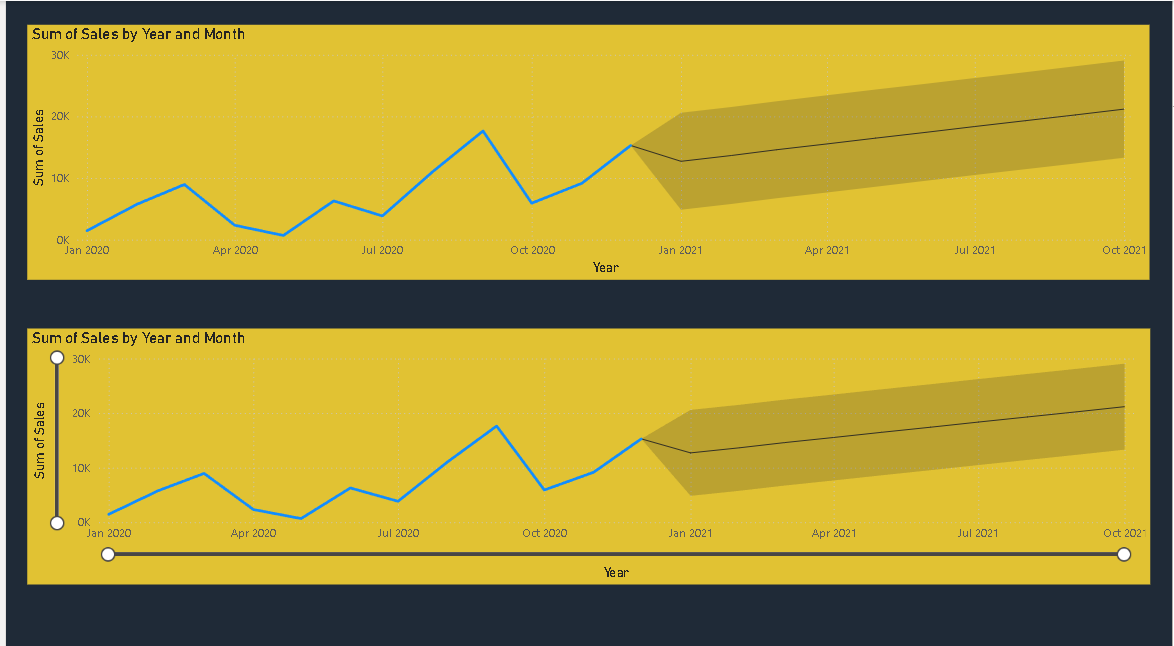

What the dashboard file says about the page in this screenshot:
{"tool":"powerbi","page":{"name":"Page 2","canvas":[1280,720],"ordinal":1},"visuals":[{"type":"lineChart","fields":{"Y":["Sum(Sheet1.Sales)"],"Category":["Sheet1.Order Date.Variation.Date Hierarchy.Year","Sheet1.Order Date.Variation.Date Hierarchy.Month"]},"box":[23.3,26.1,1232.3,279.9],"z":0},{"type":"lineChart","fields":{"Y":["Sum(Sheet1.Sales)"],"Category":["Sheet1.Order Date.Variation.Date Hierarchy.Year","Sheet1.Order Date.Variation.Date Hierarchy.Month"]},"box":[23.3,359.5,1232.3,279.9],"z":1000}]}

Visuals, with their boxes in screenshot pixels (x1, y1, x2, y2), scaled from the page's 1280x720 canvas onto the 1174x646 screenshot:
lineChart - Sum(Sheet1.Sales) x Sheet1.Order Date.Variation.Date Hierarchy.Year: bbox=[21, 23, 1152, 275]
lineChart - Sum(Sheet1.Sales) x Sheet1.Order Date.Variation.Date Hierarchy.Year: bbox=[21, 323, 1152, 574]
